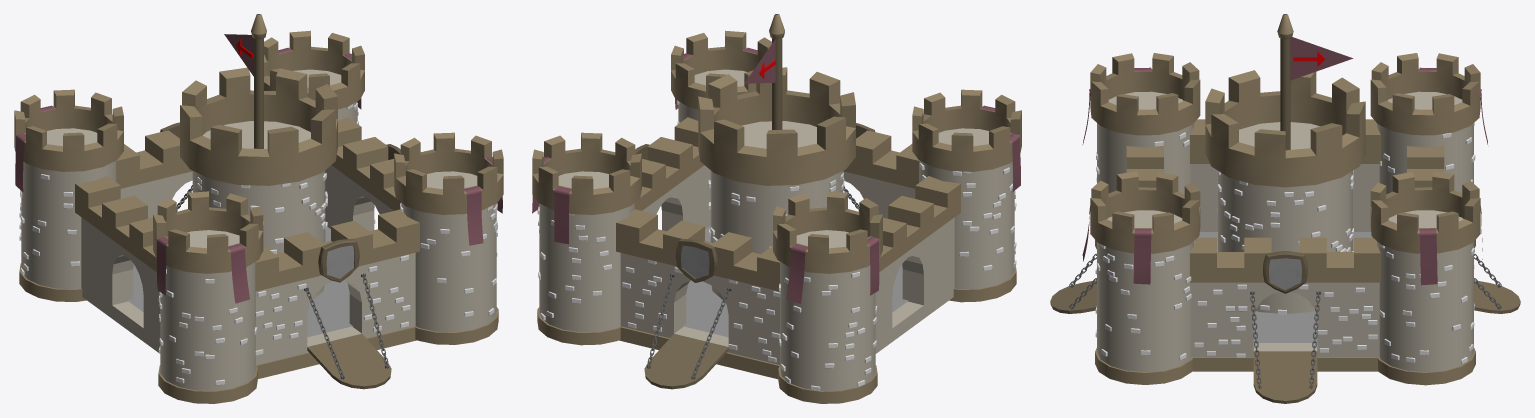
The model's file is CastleWithSperatedFlag.fbx.
3 views of the same model, side by side, from view 1: azimuth 30°, elevation 25°; view 2: azimuth 150°, elevation 25°; view 3: azimuth 270°, elevation 25° (orthographic).
Visible parts, largest first — view 1: Castle, Flag; view 2: Castle, Flag; view 3: Castle, Flag.
Part boxes in pixels (x1,y1,x2,y2): Castle: (14,14,503,403); Flag: (224,34,253,76); Castle: (532,14,1021,403); Flag: (744,39,775,83); Castle: (1050,14,1520,403); Flag: (1290,37,1353,80).
Size of the model in its own units: 1357 by 1009 by 1479.
